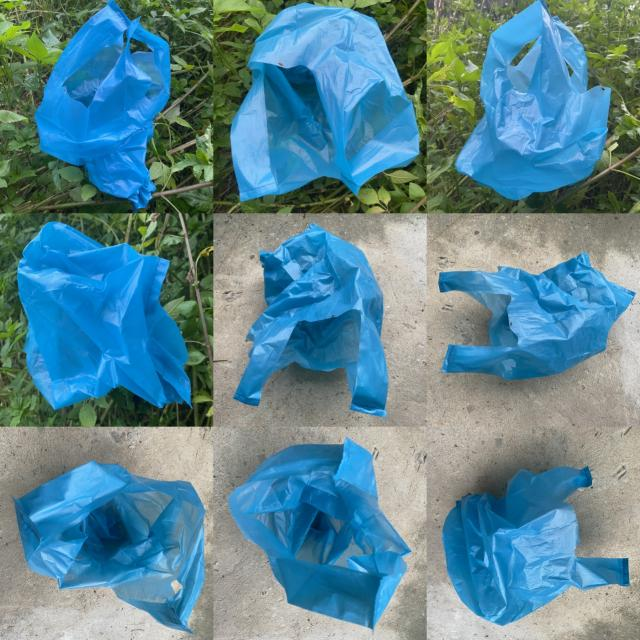Single-layer Plastic: (231, 4, 419, 200), (229, 439, 410, 629), (15, 461, 205, 632), (18, 222, 190, 409), (456, 0, 610, 199), (234, 222, 388, 417), (442, 466, 629, 625), (35, 0, 170, 209), (439, 252, 635, 380)
